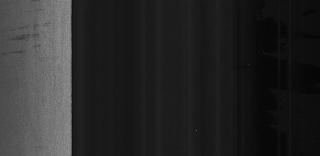water spot: (6, 7, 62, 59)
